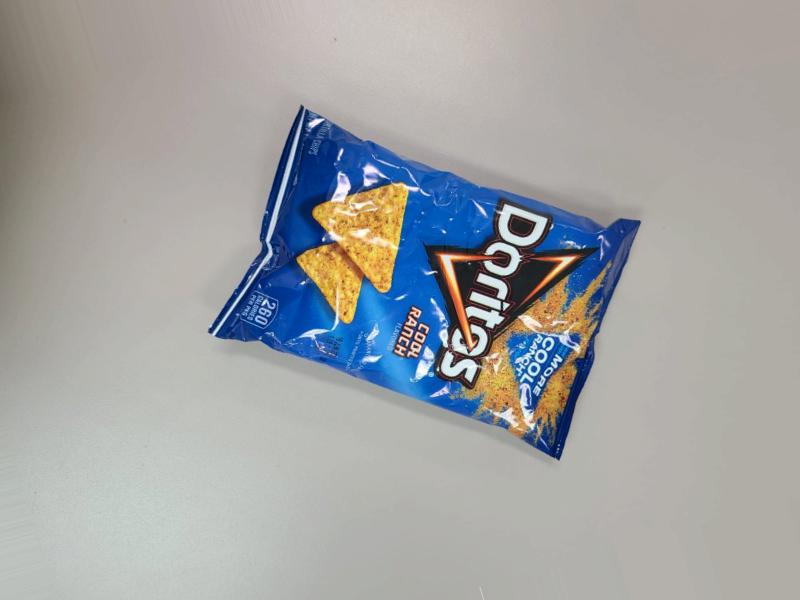doritos: (221, 81, 622, 468)
